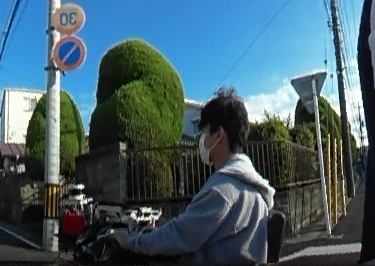person: (138, 94, 271, 266)
